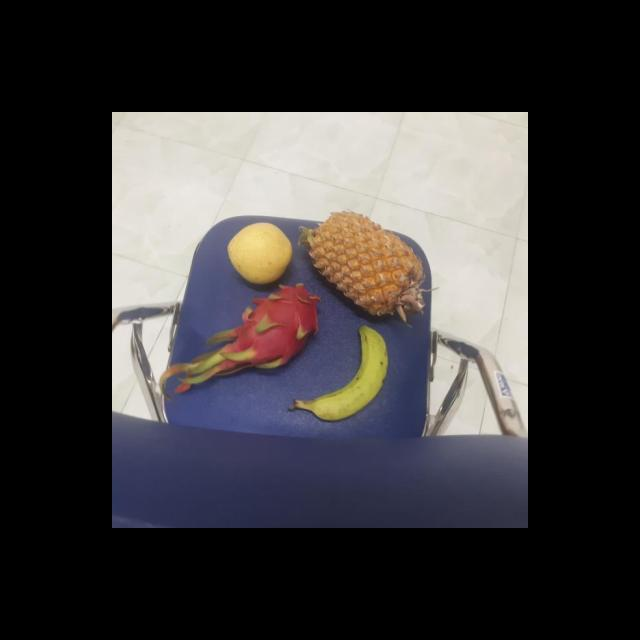banana: (286, 324, 388, 421)
pear: (223, 222, 294, 286)
pineapple: (297, 209, 427, 324)
pitaya: (232, 282, 318, 372)
